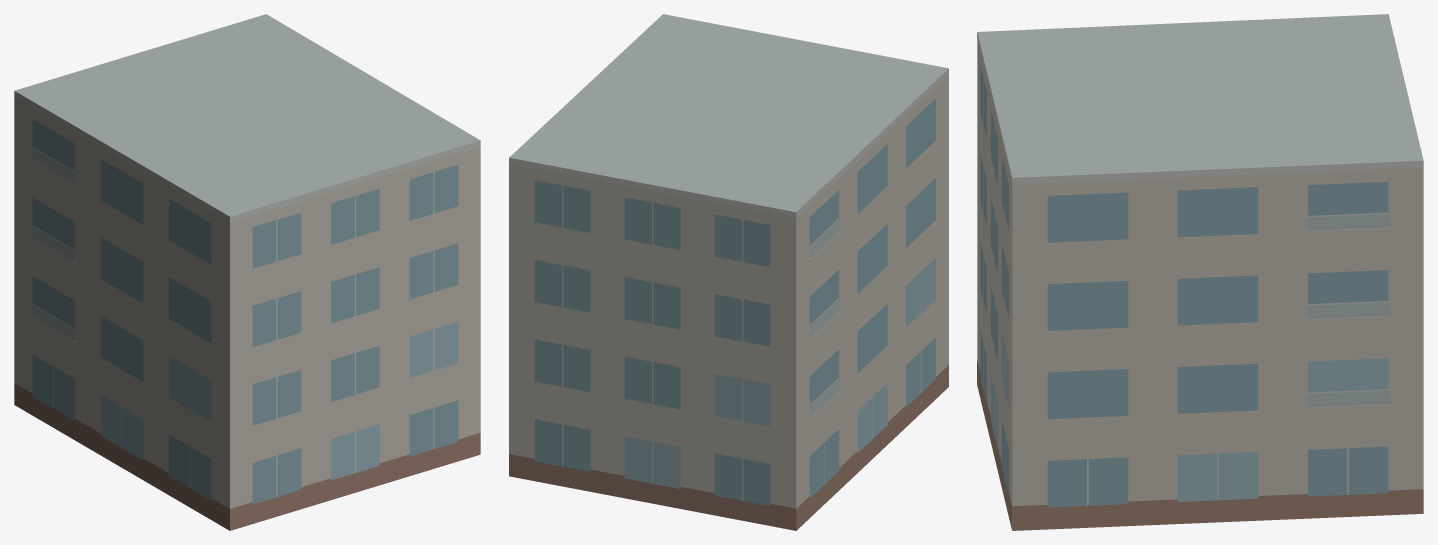
Rendered from survey-upis-32633399.glb.
3 views of the same model, side by side, from view 1: azimuth 30°, elevation 25°; view 2: azimuth 150°, elevation 25°; view 3: azimuth 270°, elevation 25° (orthographic). The views are drawn at different scales.
Parts seen in each view (by area): view 1: survey-upis-32633399.tmp; view 2: survey-upis-32633399.tmp; view 3: survey-upis-32633399.tmp.
Part boxes in pixels (x1,y1,x2,y2): survey-upis-32633399.tmp: (14,14,480,530); survey-upis-32633399.tmp: (509,14,948,530); survey-upis-32633399.tmp: (977,14,1423,530).
Bounding box in the file's own units: 12.95 × 13 × 14.91.
